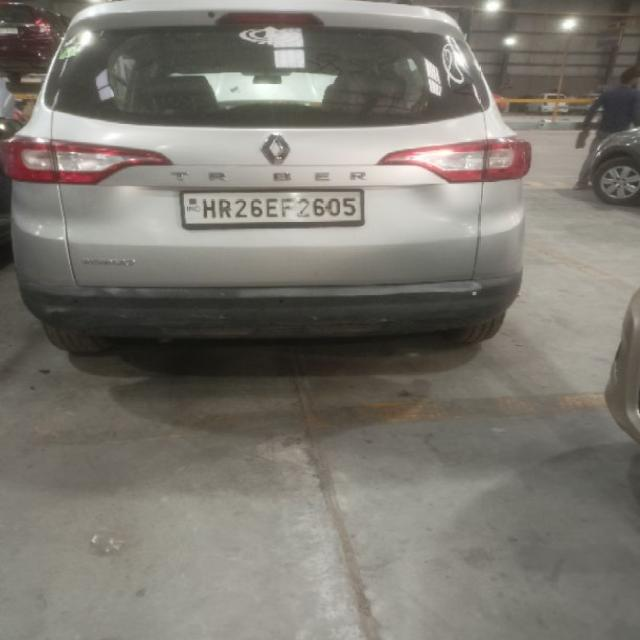license_plate: (179, 188, 365, 228)
